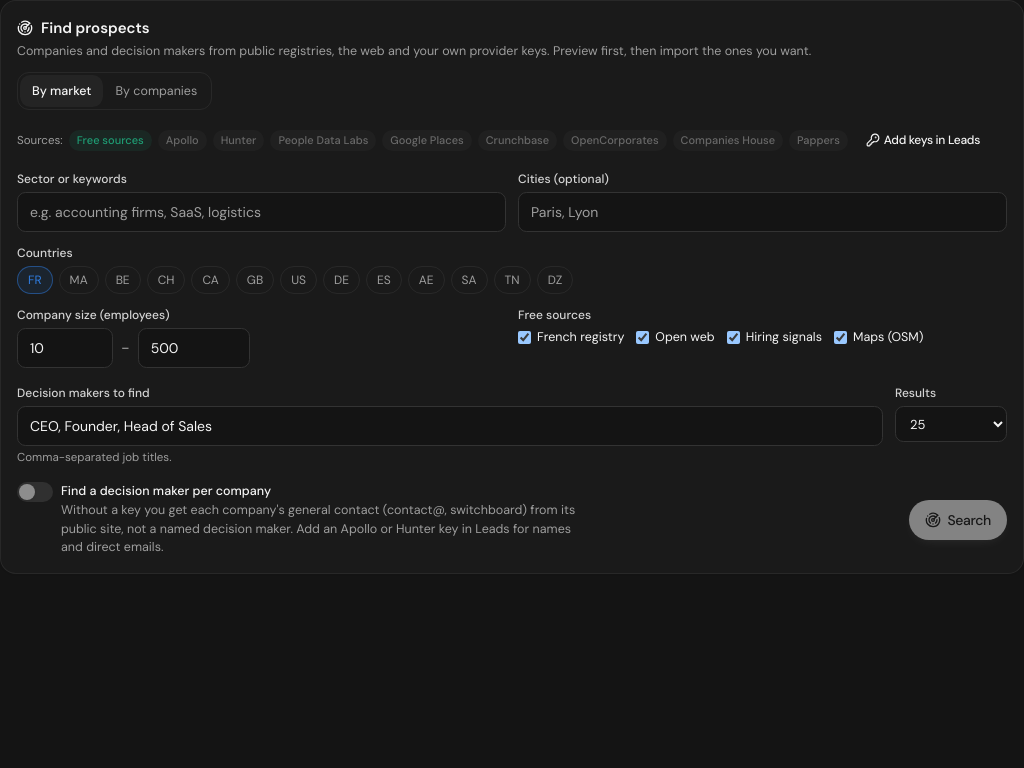
it: ProspectsView › without a key, explains the free general contact and that a named decision maker needs Apollo or Hunter
Expected: the switch is disabled, [17, 482, 53, 502]
Step 1. Type "SaaS" into the field with placeholder "e.g. accounting firms, SaaS, logistics" → (262, 212), box [17, 192, 506, 232]
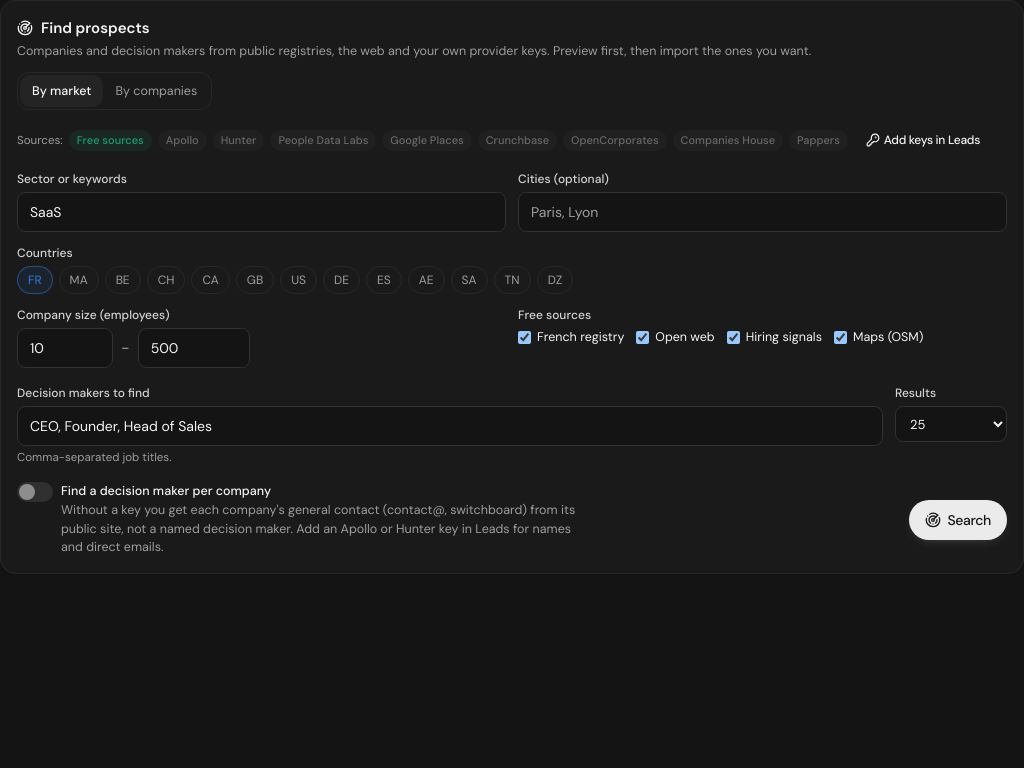
Step 2. Click the button with test id "prospects-run" → (958, 520), box [910, 500, 1007, 540]
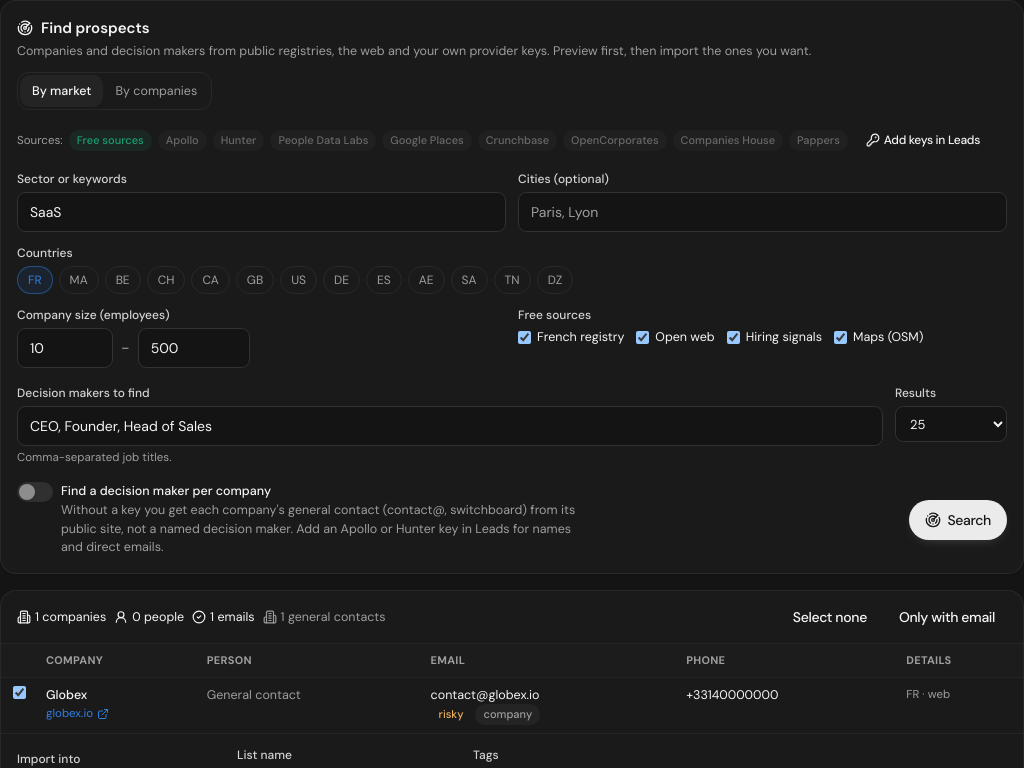
Now the table with test id "prospects-table" shows "General contact", box [207, 687, 301, 703]
Now the table with test id "prospects-table" shows "contact@globex.io", box [430, 687, 540, 703]
Now the table with test id "prospects-table" shows "Company", box [46, 653, 103, 667]
Step 3. Click the tab "By companies" → (156, 91), box [104, 75, 209, 107]
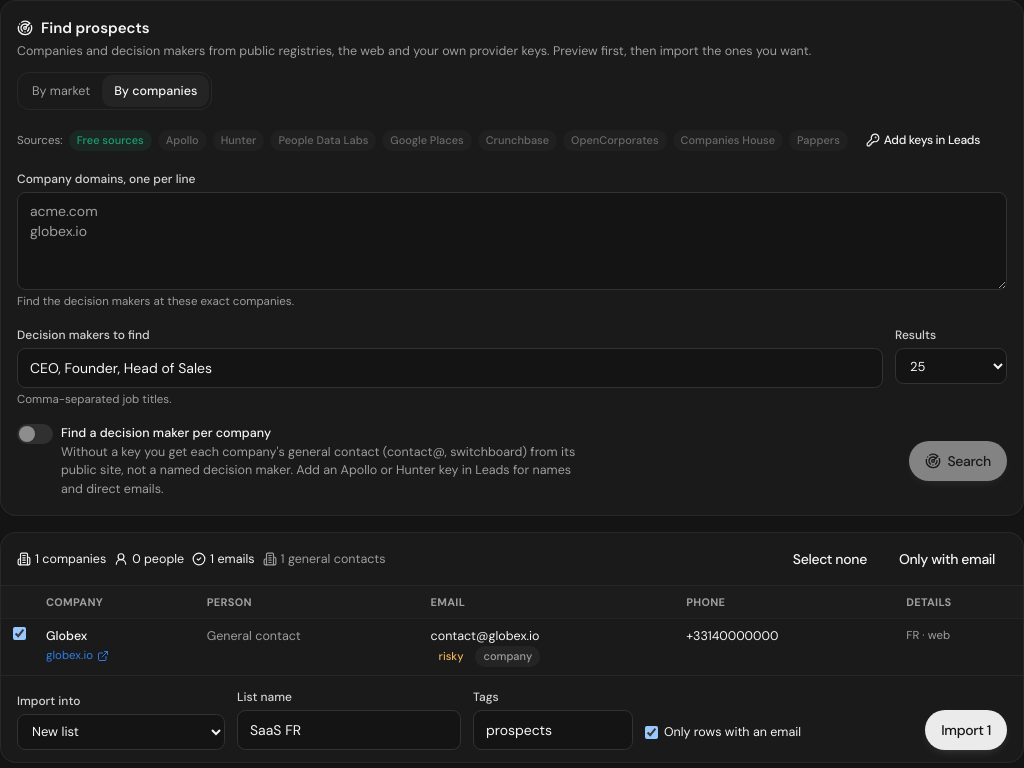
Now the button with test id "prospects-run" is disabled, box [910, 441, 1007, 481]
